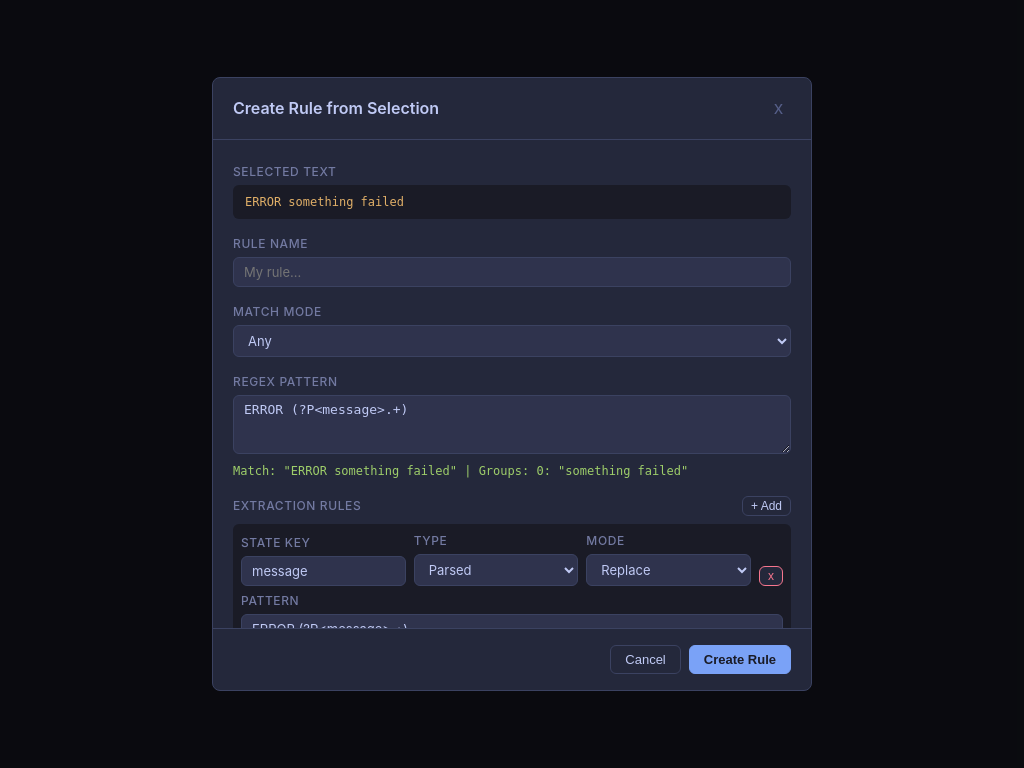
Test: RuleCreator › removes an extraction rule via the remove button
Expected: the number of fields with placeholder "state_key" is 1, [241, 556, 406, 586]
Click the 2nd button "x" at (771, 576), box [759, 566, 783, 586]
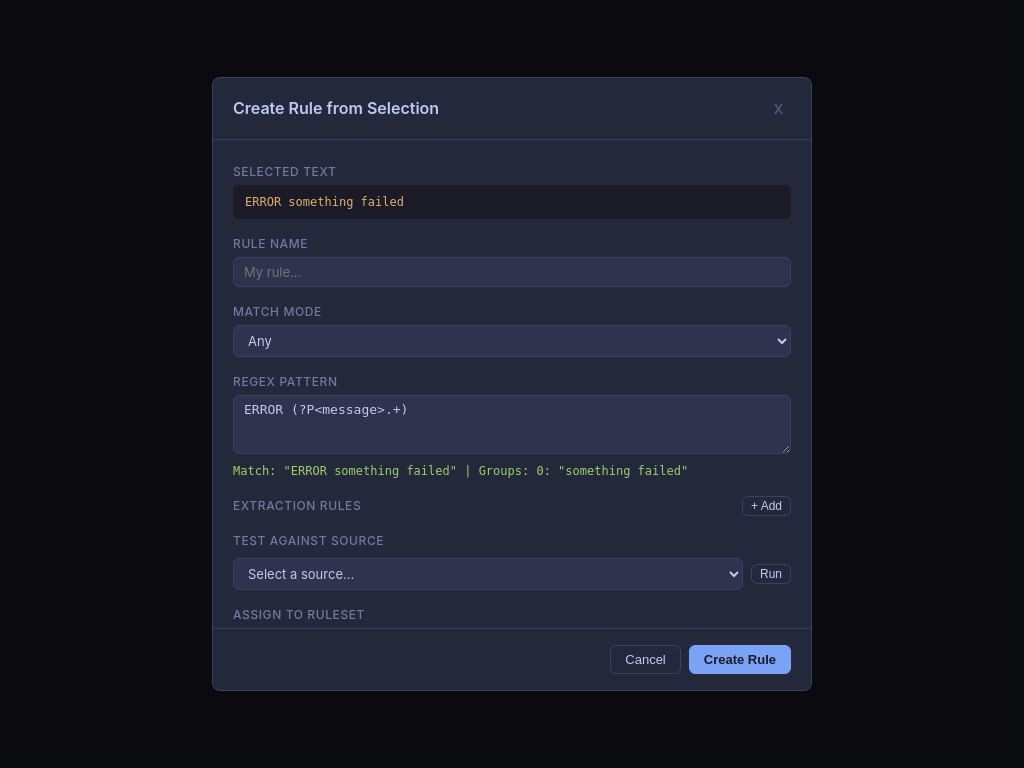
Expected: no fields with placeholder "state_key" are shown
